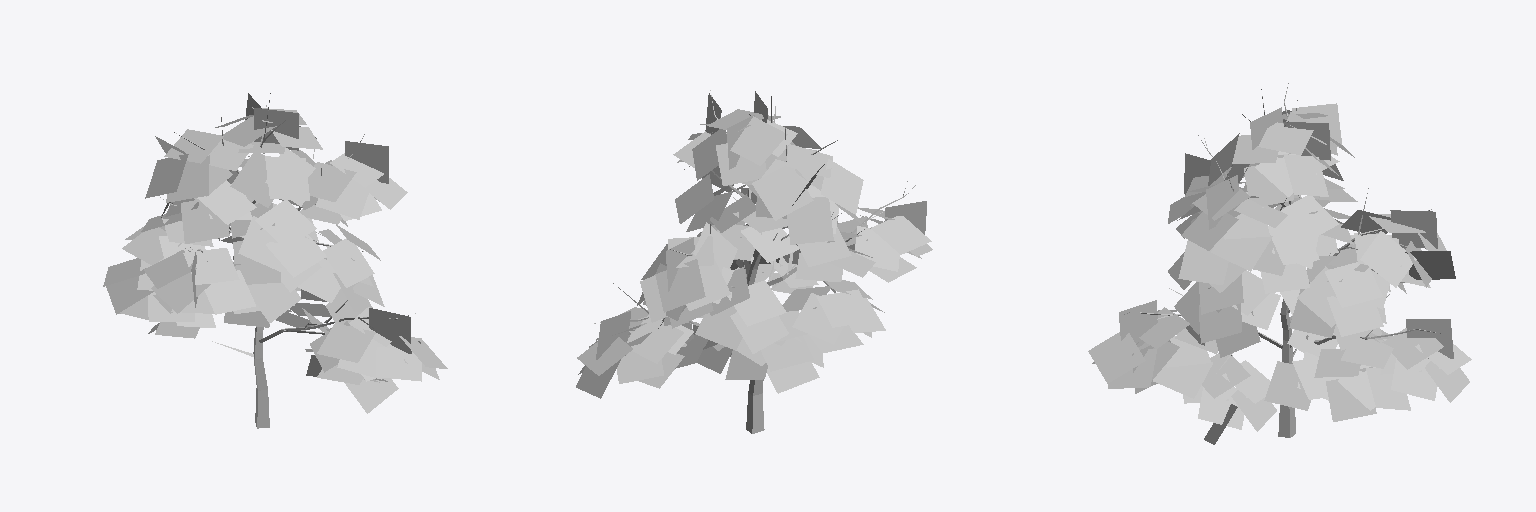
The model's file is tree2b_lod2.obj.
3 views of the same model, side by side, from view 1: azimuth 30°, elevation 25°; view 2: azimuth 150°, elevation 25°; view 3: azimuth 270°, elevation 25° (orthographic).
Visible parts, largest first — view 1: leaves 0.0 0.[number redacted] 0.0 0 0 0 0.[number redacted] 0.[number redacted], bark 0.[number redacted] -0.[number redacted] -0.[number redacted]; view 2: leaves 0.0 0.[number redacted] 0.0 0 0 0 0.[number redacted] 0.[number redacted], bark 0.[number redacted] -0.[number redacted] -0.[number redacted]; view 3: leaves 0.0 0.[number redacted] 0.0 0 0 0 0.[number redacted] 0.[number redacted], bark 0.[number redacted] -0.[number redacted] -0.[number redacted].
Boxes of the visible parts, box(x1,y1,x2,y2) form: leaves 0.0 0.[number redacted] 0.0 0 0 0 0.[number redacted] 0.[number redacted]: box(103, 93, 447, 413); bark 0.[number redacted] -0.[number redacted] -0.[number redacted]: box(160, 93, 415, 428); leaves 0.0 0.[number redacted] 0.0 0 0 0 0.[number redacted] 0.[number redacted]: box(576, 91, 932, 398); bark 0.[number redacted] -0.[number redacted] -0.[number redacted]: box(594, 90, 915, 433); leaves 0.0 0.[number redacted] 0.0 0 0 0 0.[number redacted] 0.[number redacted]: box(1088, 103, 1471, 444); bark 0.[number redacted] -0.[number redacted] -0.[number redacted]: box(1124, 83, 1440, 437).
Size of the model in its own units: 0.7894 by 1 by 1.